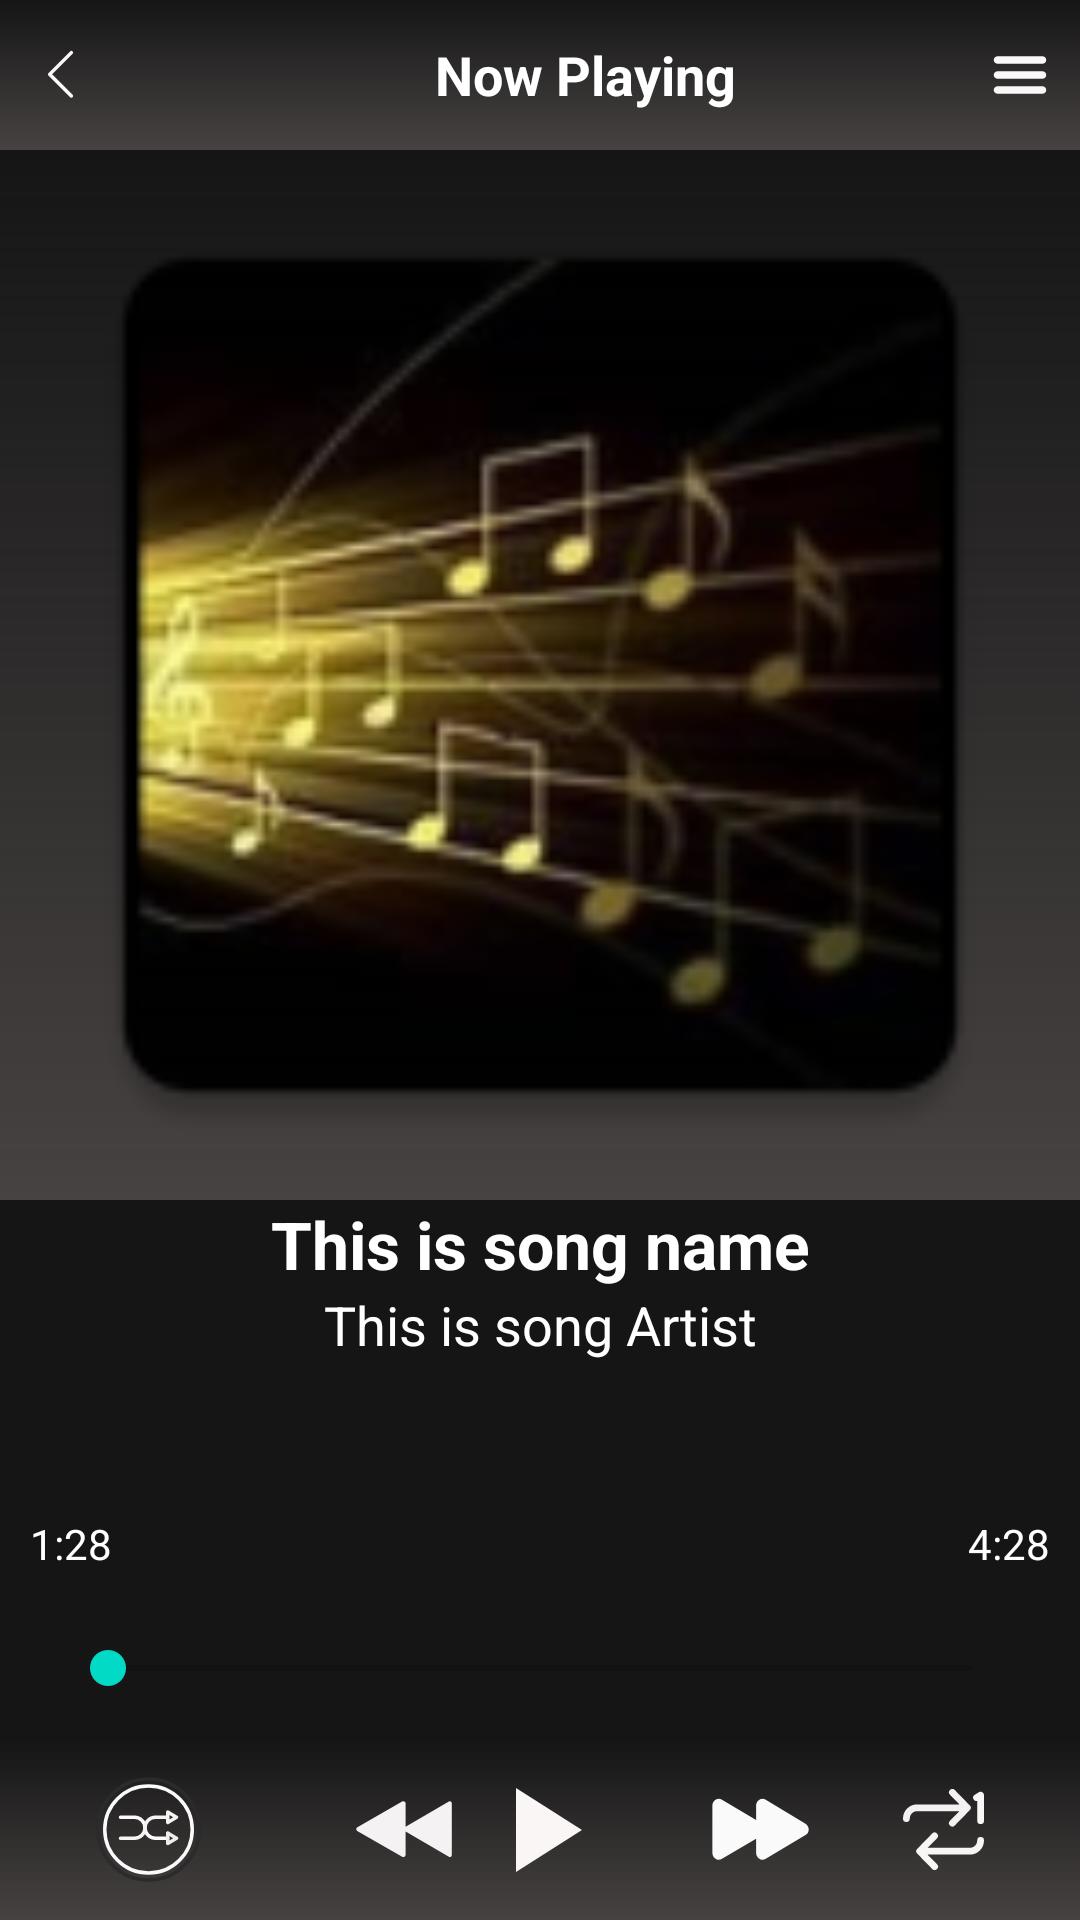

Icon bounding boxes for this 1080 x 1920 phone screenshot, format rect(x1, y1, x2, y2):
next: rect(712, 1799, 809, 1860)
prev: rect(356, 1801, 452, 1857)
repeat: rect(903, 1789, 984, 1870)
shuffle on: rect(96, 1777, 201, 1882)
